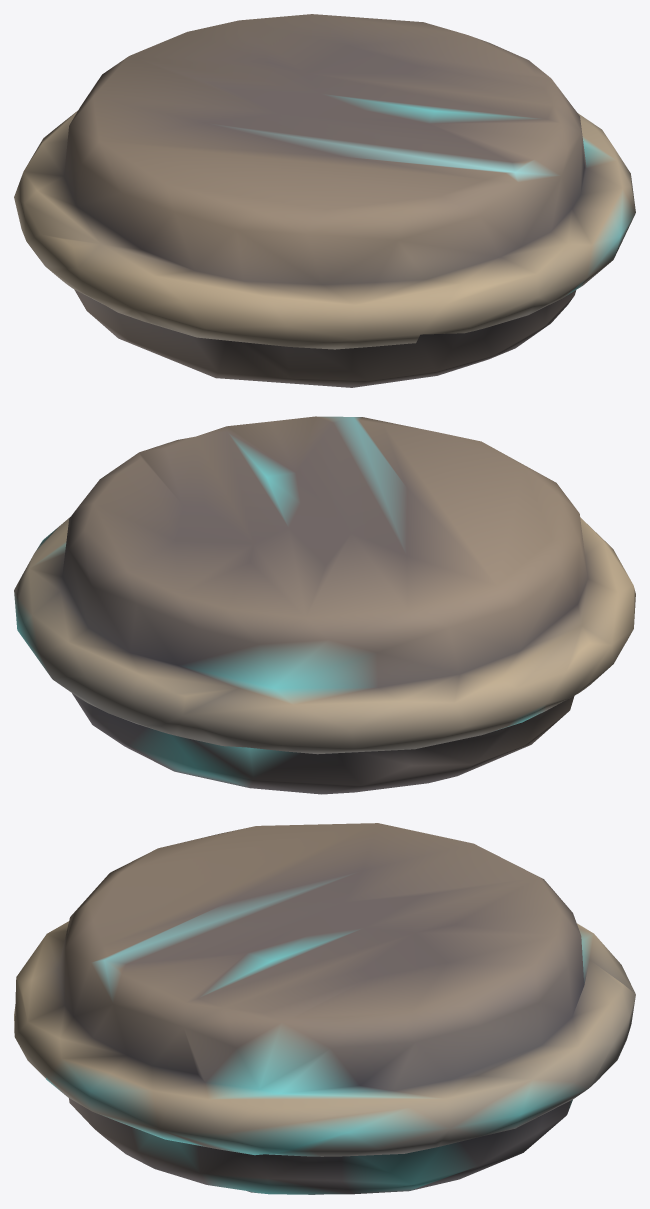
The model's file is burrower_seg3.glb.
3 renders of one model, top to bottom at view 1: azimuth 30°, elevation 25°; view 2: azimuth 150°, elevation 25°; view 3: azimuth 270°, elevation 25°, orthographic.
Visible parts, largest first — view 1: geometry_0; view 2: geometry_0; view 3: geometry_0.
Boxes of the visible parts, left/top/right/bottom form: geometry_0: left=14, top=14, right=635, bottom=387; geometry_0: left=14, top=416, right=635, bottom=794; geometry_0: left=14, top=823, right=635, bottom=1194.
Size of the model in its own units: 1.08 by 0.34 by 1.08.
